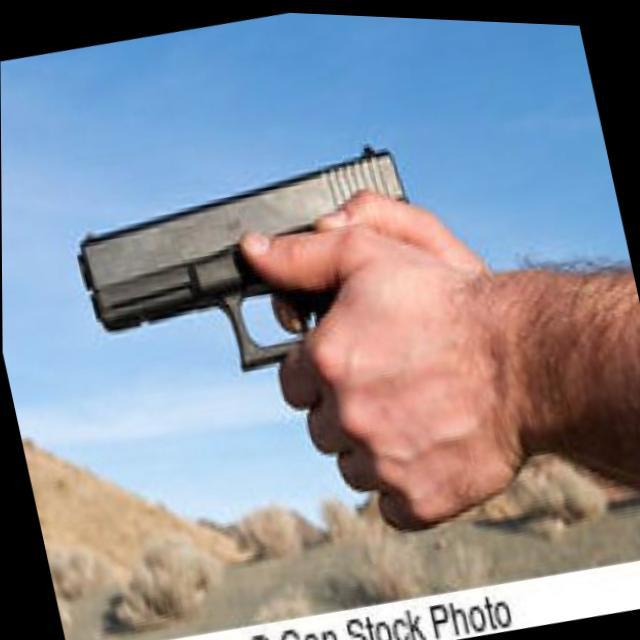weapon: (39, 108, 514, 578)
